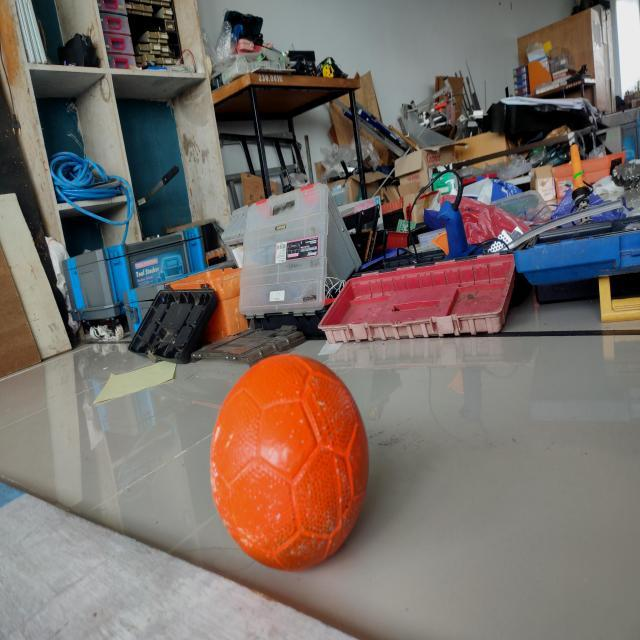bola: (208, 348, 376, 580)
